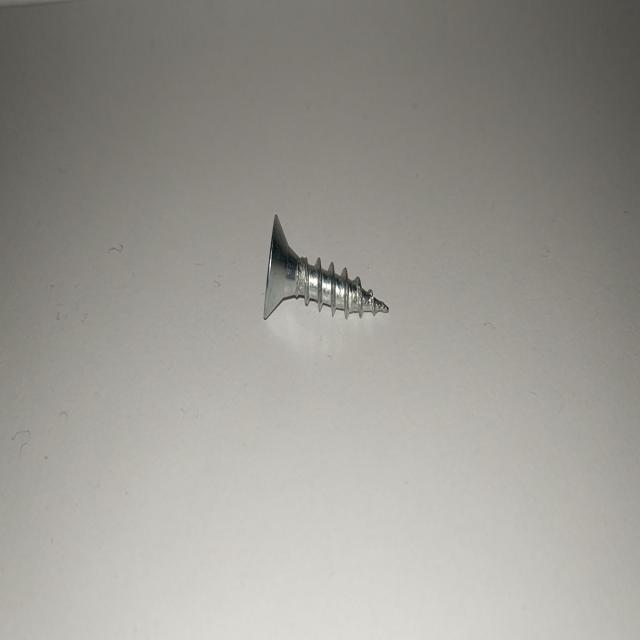Screw: (264, 213, 389, 318)
